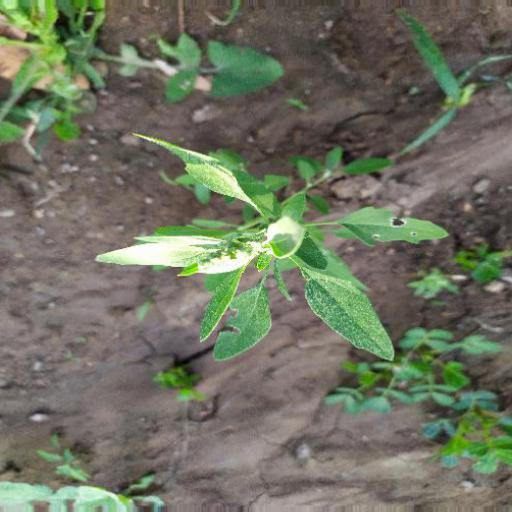weed: (99, 125, 453, 390)
